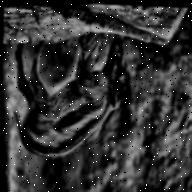boar: (5, 19, 150, 171)
